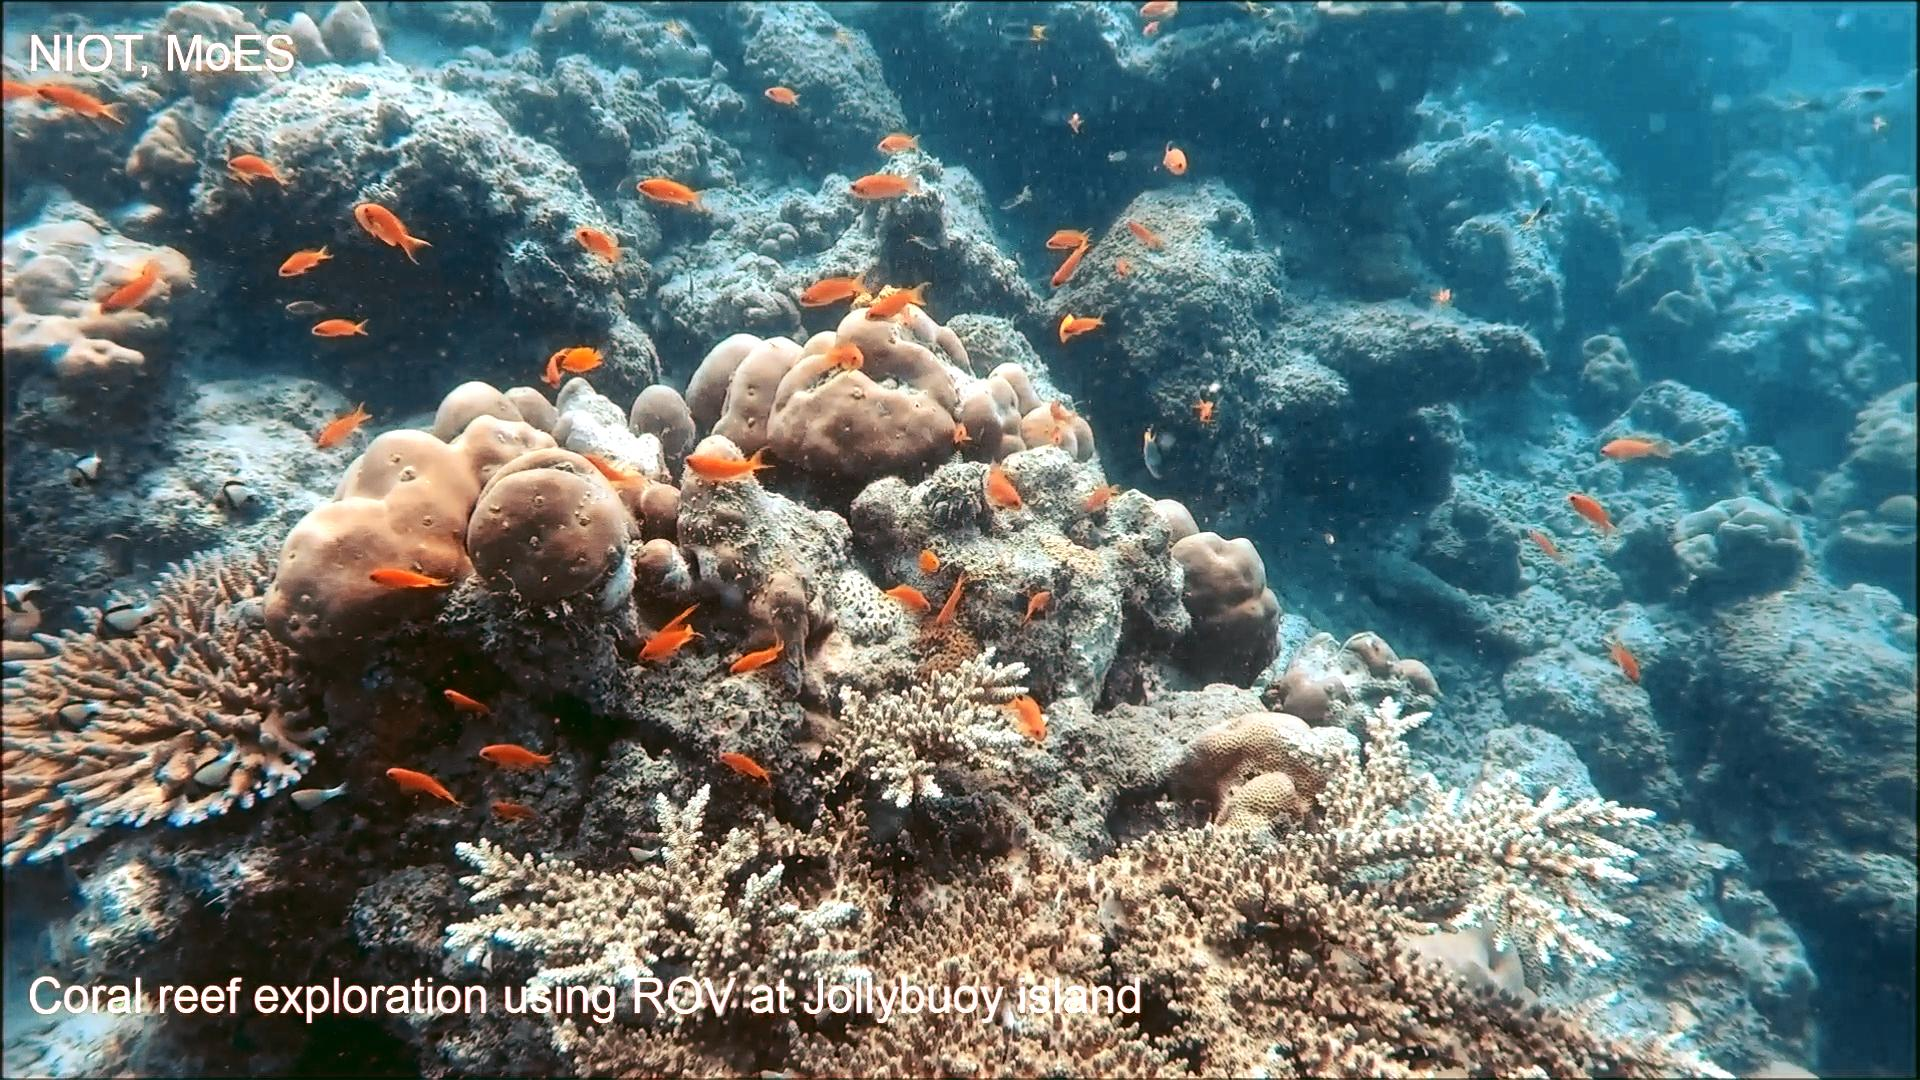Porites-Porites pukoensis: (256, 376, 662, 676), (659, 297, 1102, 491)
